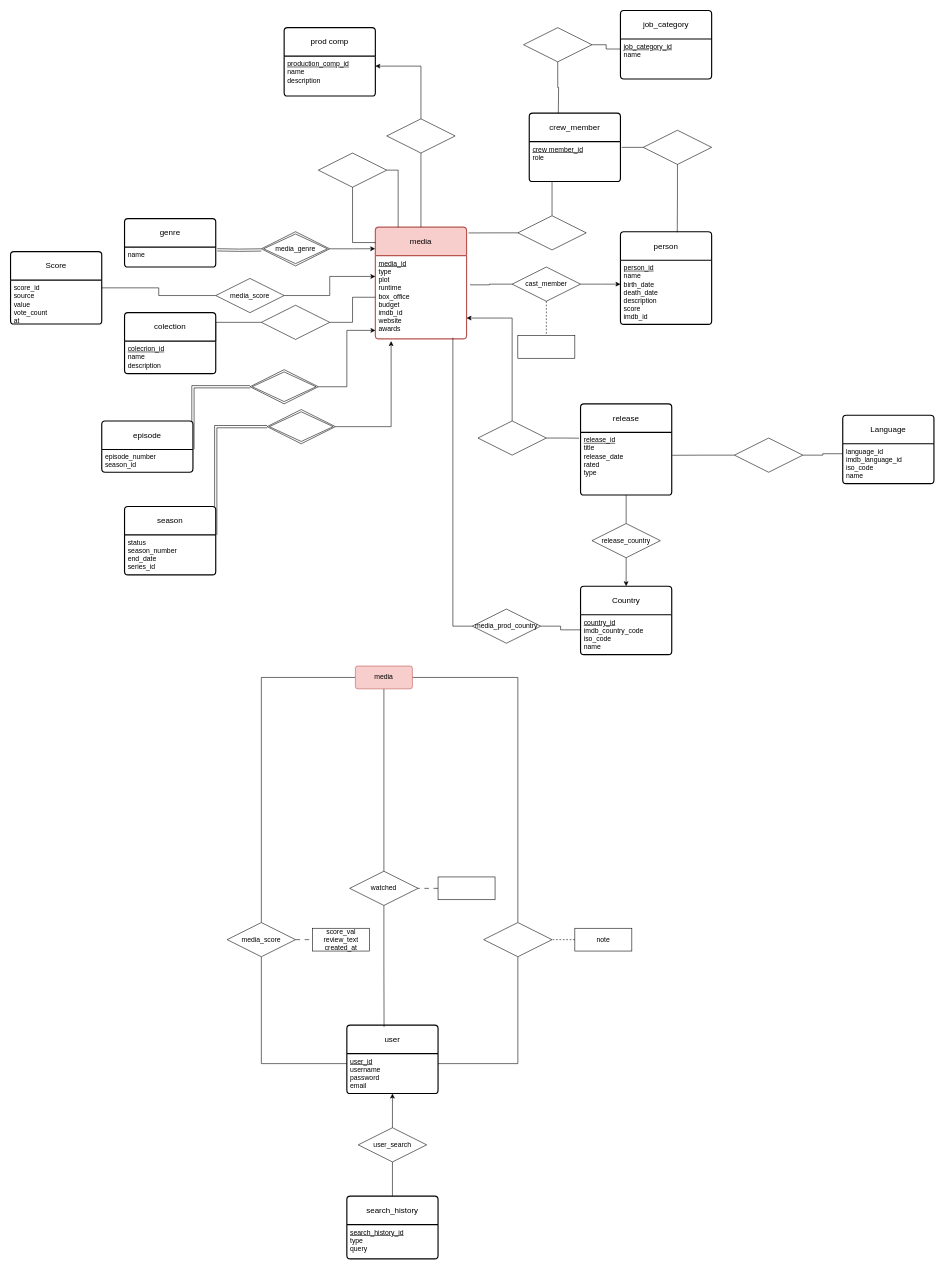
The diagram is 944 pixels wide and 1269 high, and some of its shapes have lost their labels. Each missing label, with the centre of its shape:
"bookmark" belongs at [517,939].
"completed_date rewatchability note" belongs at [466,888].
"crew_job" belongs at [557,44].
"crew_media" belongs at [551,232].
"crew_person" belongs at [677,147].
"media_collecrion" belongs at [295,322].
"media_episode" belongs at [283,386].
"media_prod_comp" belongs at [420,135].
"media_season" belongs at [300,426].
"related_media" belongs at [352,169].
"released_media" belongs at [511,437].
"role character" belongs at [546,346].
"spoken_language" belongs at [768,454].
